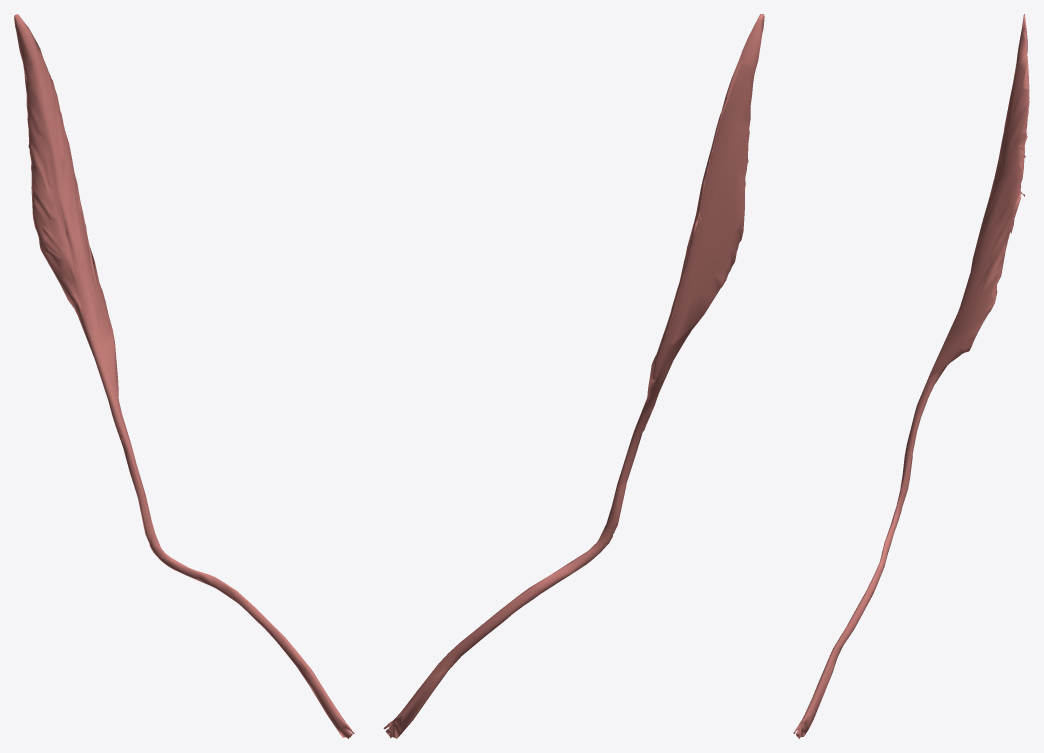
3 views of the same model, side by side, from view 1: azimuth 30°, elevation 25°; view 2: azimuth 210°, elevation 25°; view 3: azimuth 270°, elevation 25° (orthographic). The views are drawn at different scales.
Visible parts, largest first — view 1: ZA_91699ebb0dcecaf6; view 2: ZA_91699ebb0dcecaf6; view 3: ZA_91699ebb0dcecaf6.
Boxes of the visible parts, x1=… form: ZA_91699ebb0dcecaf6: x1=14, y1=14, x2=354, y2=738; ZA_91699ebb0dcecaf6: x1=383, y1=14, x2=764, y2=738; ZA_91699ebb0dcecaf6: x1=793, y1=14, x2=1029, y2=738.
Size of the model in its own units: 0.0781 by 0.2381 by 0.0808.
